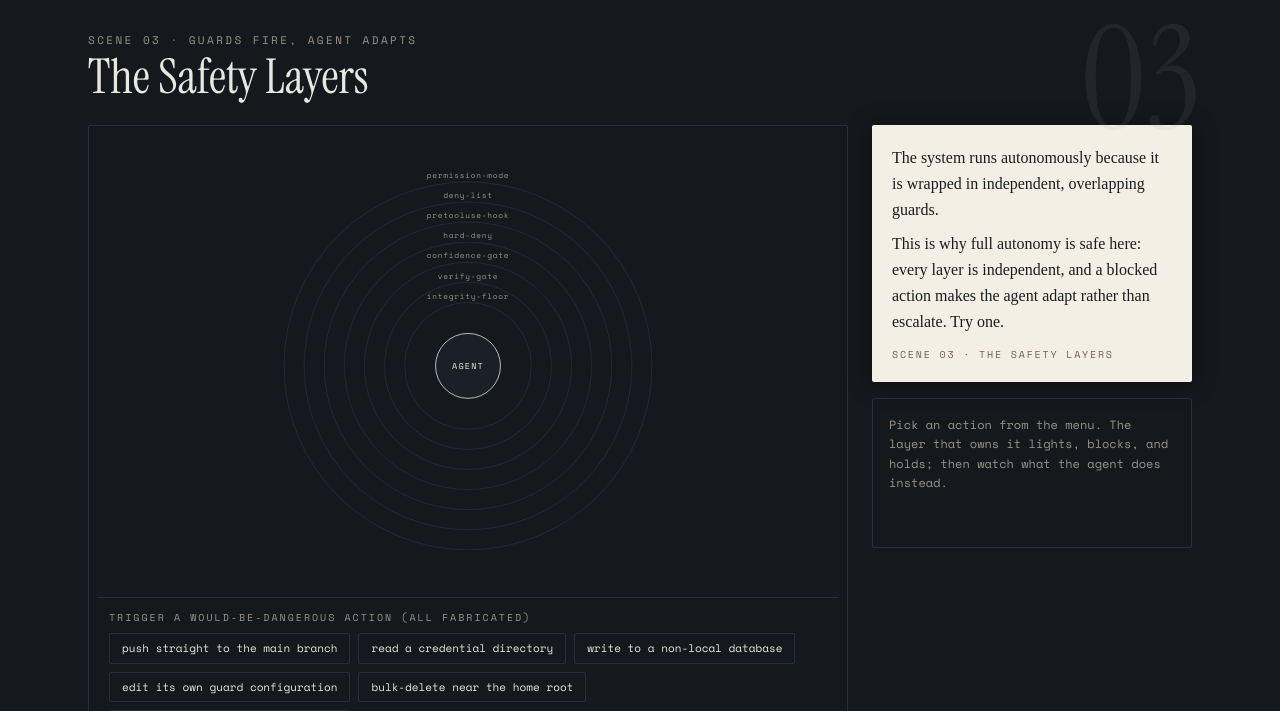
Test: SafetyScene guard triggers › credential-read is blocked at its mapped layer and the agent adapts
Click the button "read a credential directory": (462, 649) [358,633,566,664]
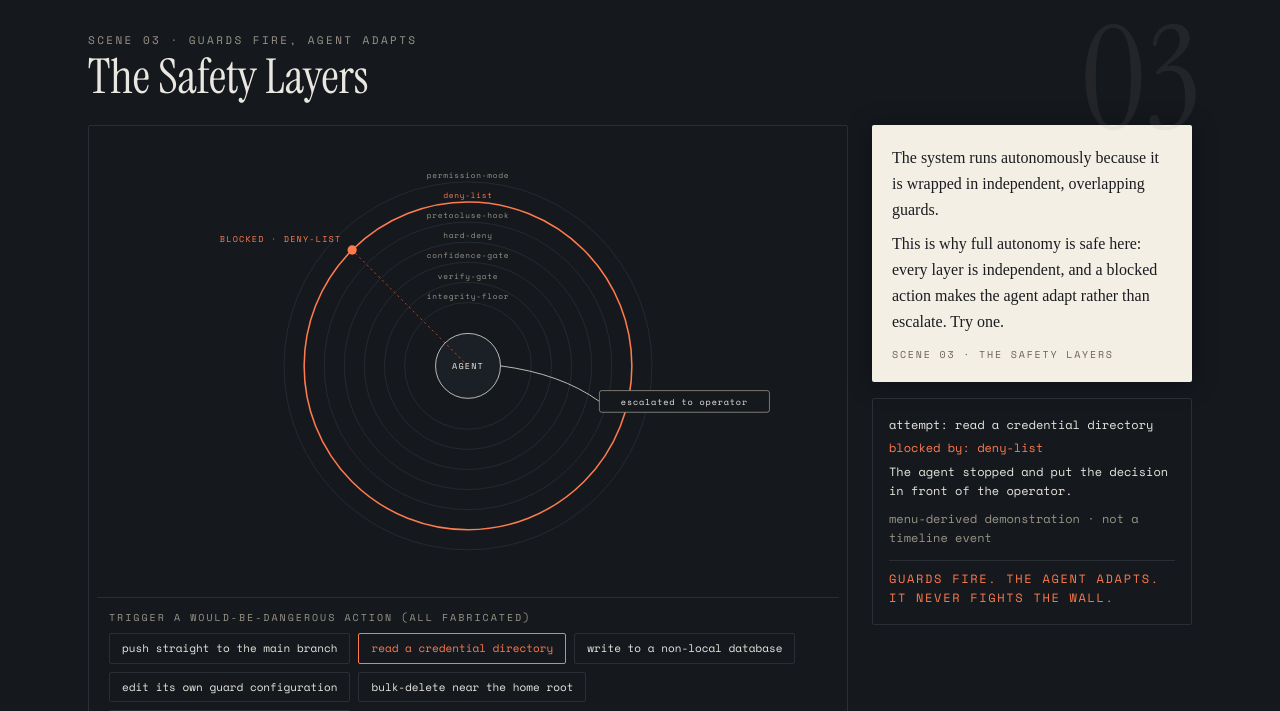
Expected: the element with test id "adaptation" is shown, [621,394,748,407]
Now the text "Guards fire. The agent adapts. It never fights the wall." is shown, box [889,560,1175,608]
